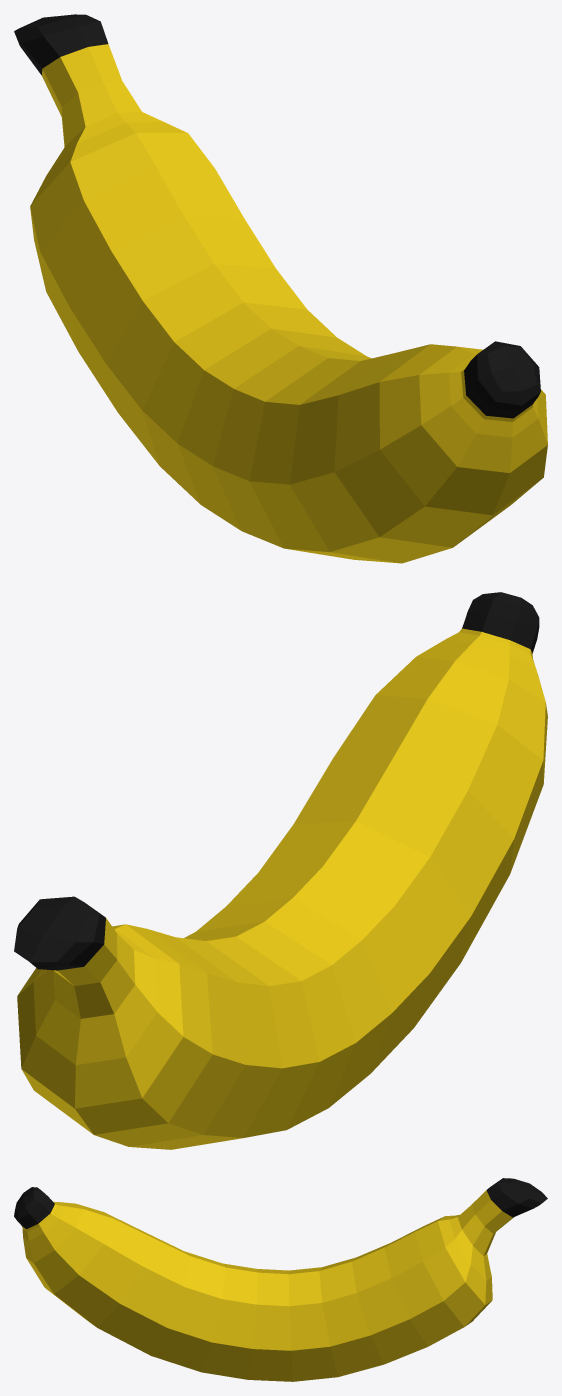
The model's file is Banane.fbx.
The picture shows the model from 3 angles, top to bottom: view 1: azimuth 30°, elevation 25°; view 2: azimuth 150°, elevation 25°; view 3: azimuth 270°, elevation 25°; orthographic projection. The views are drawn at different scales.
Parts seen in each view (by area): view 1: Cube.001; view 2: Cube.001; view 3: Cube.001.
Part boxes in pixels (x1,y1,x2,y2): Cube.001: (14, 14, 547, 563); Cube.001: (14, 592, 547, 1149); Cube.001: (14, 1178, 547, 1381).
Size of the model in its own units: 841 by 338 by 183.
